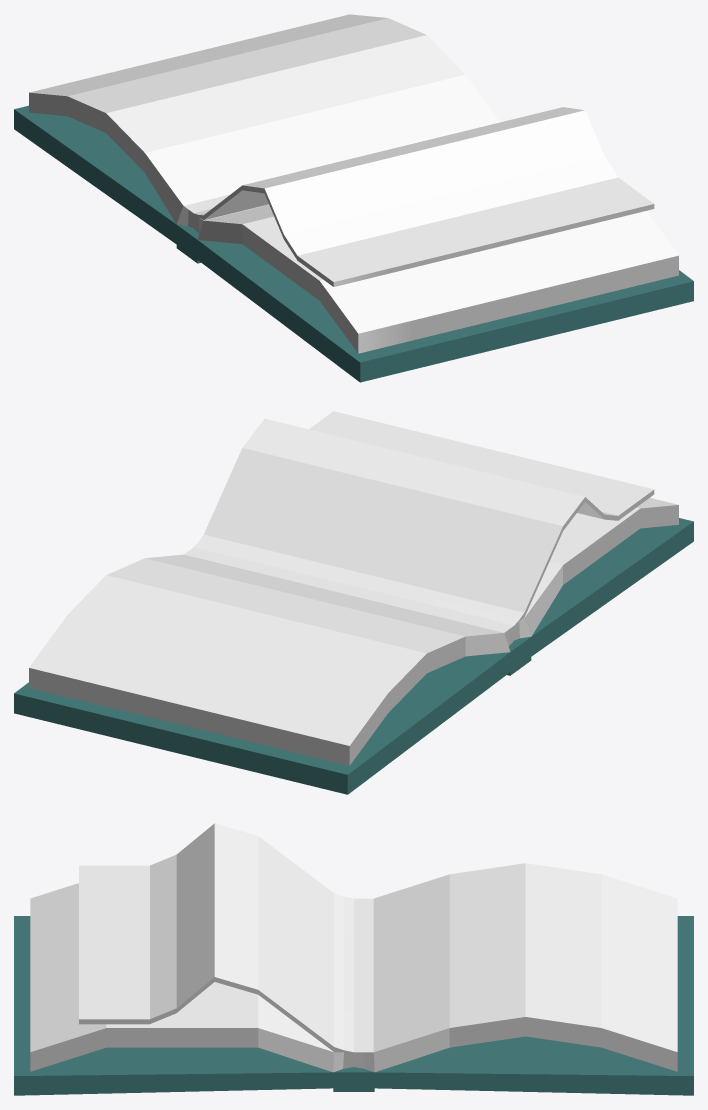
File: bookopen01.gltf
3 views of the same model, one above another, from view 1: azimuth 30°, elevation 25°; view 2: azimuth 150°, elevation 25°; view 3: azimuth 270°, elevation 25° (orthographic).
Visible parts, largest first — view 1: Cube; view 2: Cube; view 3: Cube.
Part boxes in pixels (x1=…): Cube: x1=14, y1=14, x2=693, y2=382; Cube: x1=14, y1=411, x2=693, y2=794; Cube: x1=14, y1=823, x2=693, y2=1095.
Bounding box in the file's own units: 0.1755 × 0.0591 × 0.3152.
1 material, 1 textured.
